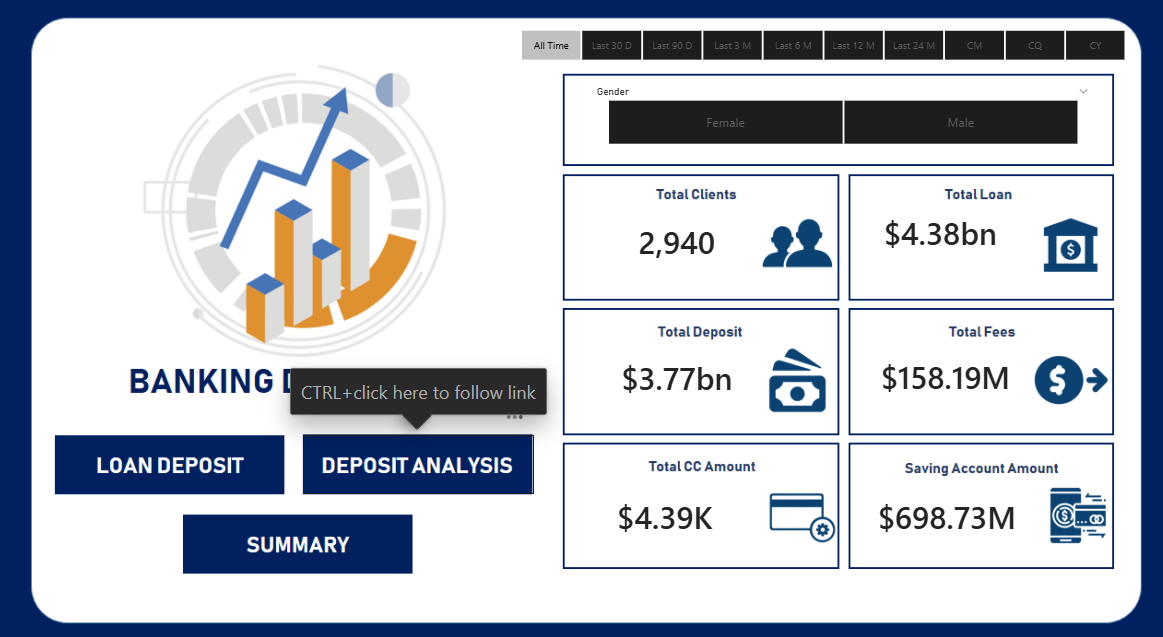

The page's visual inventory and layout, read from the dashboard file:
{"tool":"powerbi","page":{"name":"Home","canvas":[1280,720],"ordinal":0},"visuals":[{"type":"slicer","fields":{"Values":["Gender.Gender"]},"box":[640.3,100.8,558.2,75],"z":0},{"type":"card","fields":{"Values":["DAX Measures.Total Clients"]},"box":[640.3,218.1,198.2,114.9],"z":1000},{"type":"card","fields":{"Values":["DAX Measures.Total Loan"]},"box":[933.4,208.7,184.1,114.9],"z":2000},{"type":"card","fields":{"Values":["DAX Measures.Total Deposit"]},"box":[640.3,374.1,198.2,98.5],"z":3000},{"type":"card","fields":{"Values":["DAX Measures.Total CC Amount"]},"box":[628.5,533.6,198.2,79.7],"z":4000},{"type":"card","fields":{"Values":["DAX Measures.Total Fees"]},"box":[938.1,372.9,185.3,99.7],"z":5000},{"type":"card","fields":{"Values":["DAX Measures.Savings Account"]},"box":[933.4,533.6,198.2,79.7],"z":6000},{"type":"actionButton","box":[63.3,483.1,253.3,65.7],"z":7000},{"type":"actionButton","box":[335.4,485.5,250.9,63.3],"z":8000},{"type":"actionButton","box":[205.2,573.4,255.6,61],"z":9000},{"type":"slicer","fields":{"Values":["Period.Name"]},"box":[546.4,38.7,703.6,45.7],"z":10000}]}

Visuals, with their boxes in screenshot pixels (x1, y1, x2, y2), scaled from the page's 1280x720 canvas onto the 1163x637 screenshot:
slicer - Gender.Gender: left=582, top=89, right=1089, bottom=156
card - DAX Measures.Total Clients: left=582, top=193, right=762, bottom=295
card - DAX Measures.Total Loan: left=848, top=185, right=1015, bottom=286
card - DAX Measures.Total Deposit: left=582, top=331, right=762, bottom=418
card - DAX Measures.Total CC Amount: left=571, top=472, right=751, bottom=543
card - DAX Measures.Total Fees: left=852, top=330, right=1021, bottom=418
card - DAX Measures.Savings Account: left=848, top=472, right=1028, bottom=543
actionButton: left=58, top=427, right=288, bottom=486
actionButton: left=305, top=430, right=533, bottom=486
actionButton: left=186, top=507, right=419, bottom=561
slicer - Period.Name: left=496, top=34, right=1136, bottom=75
